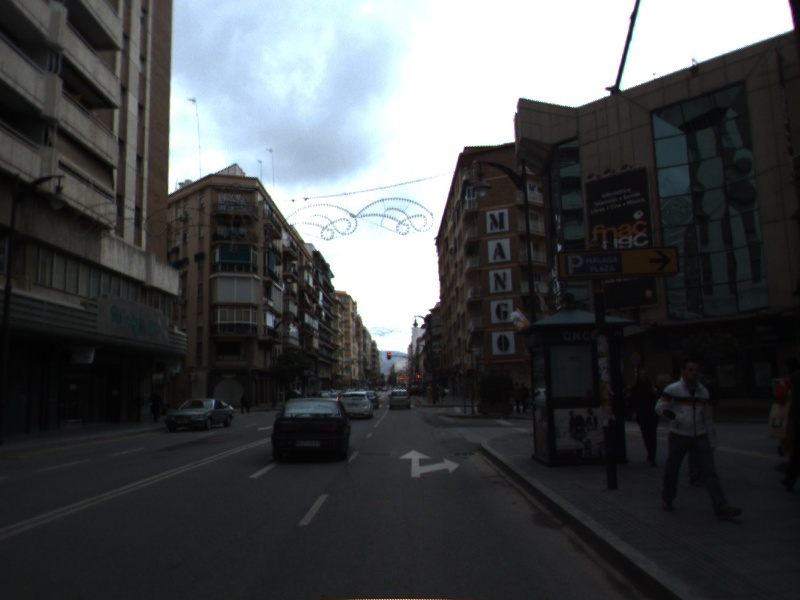STRAIGHT_RIGHT: (397, 448, 462, 479)
